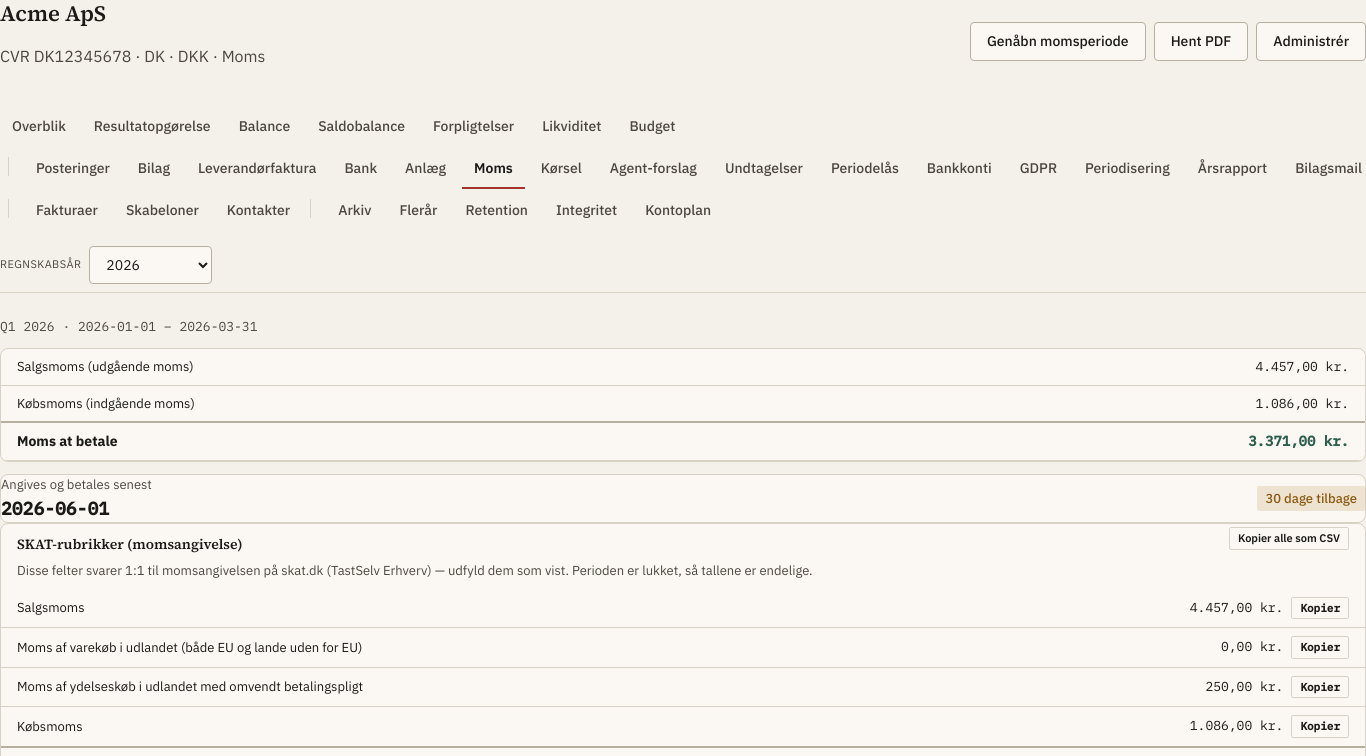
VatView — Moms › a reopen with an empty reason is blocked
Click the button "Genåbn momsperiode" at (1058, 42), box [970,22,1146,61]
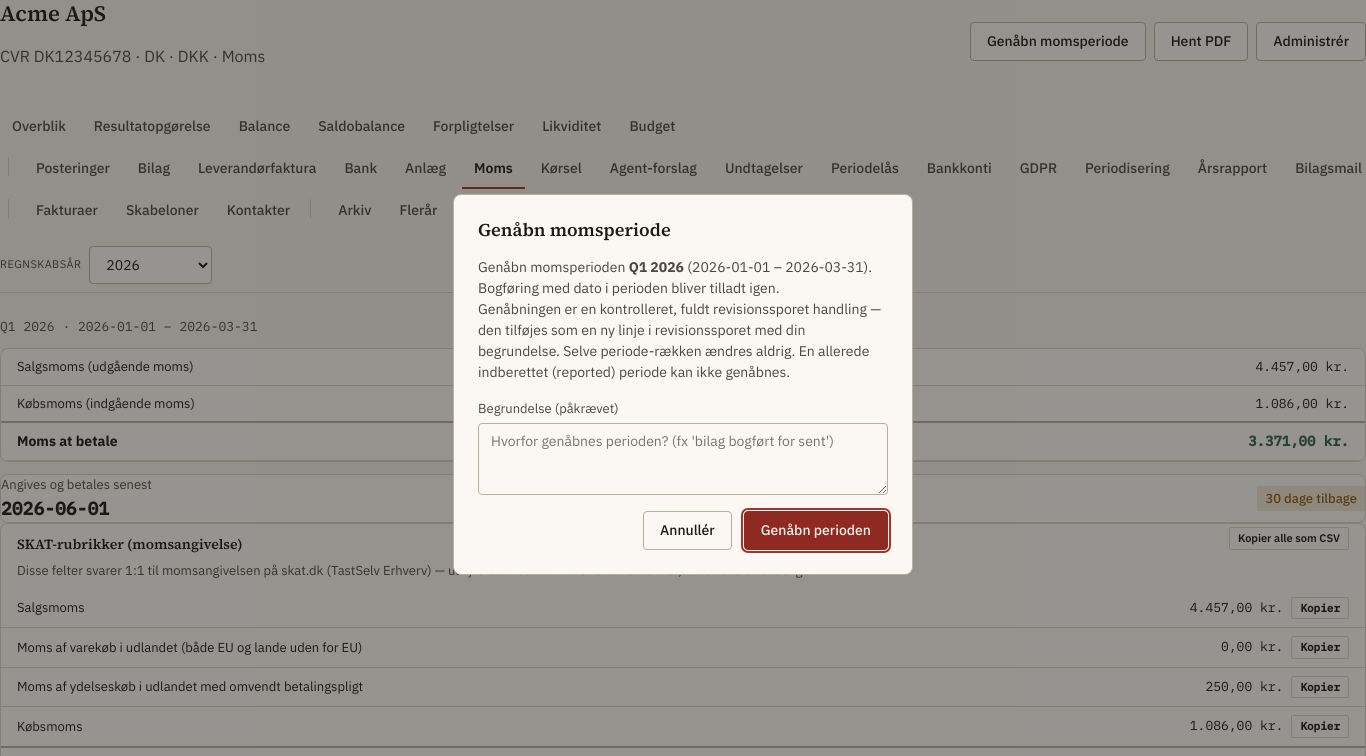
Click the button "Genåbn perioden" at (816, 530), box [744,510,888,550]
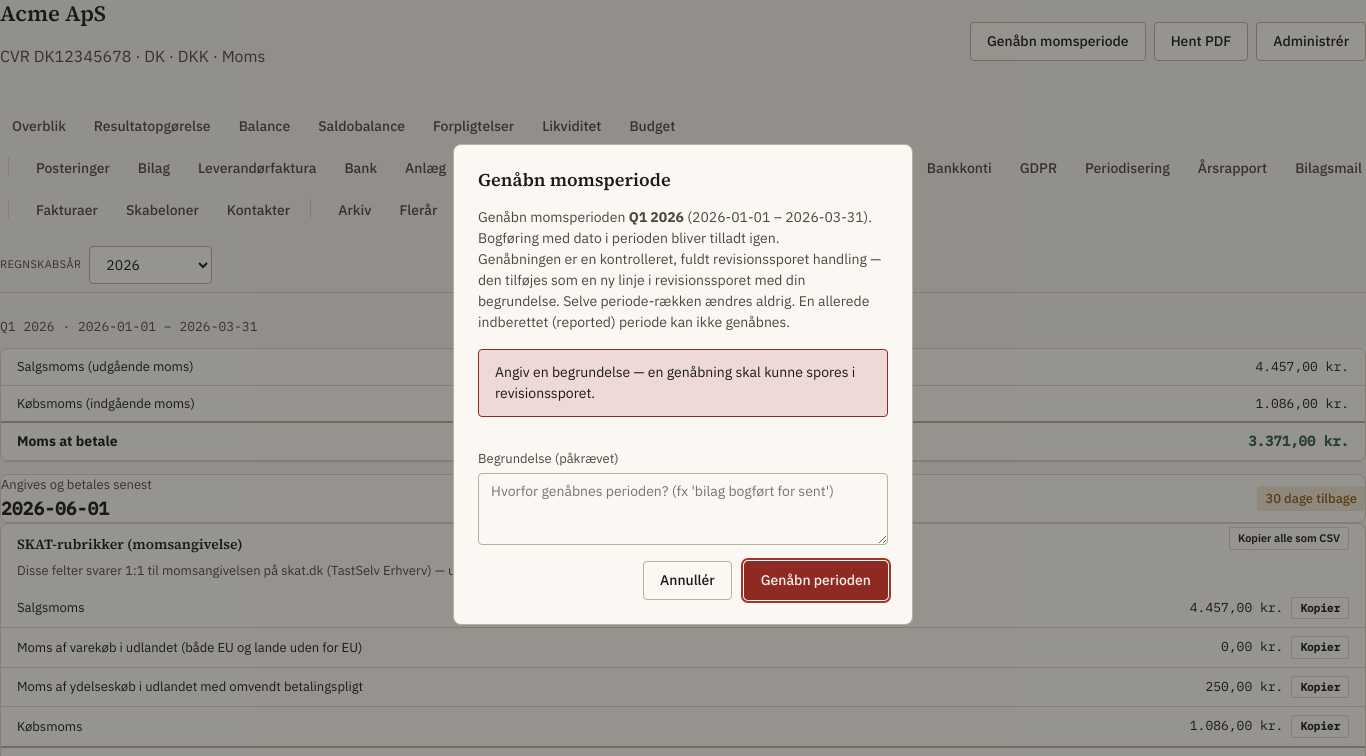
expect the text "Angiv en begrundelse — en genåbning skal kunne spores i revisionssporet." is shown: met, box [478,349,888,417]
